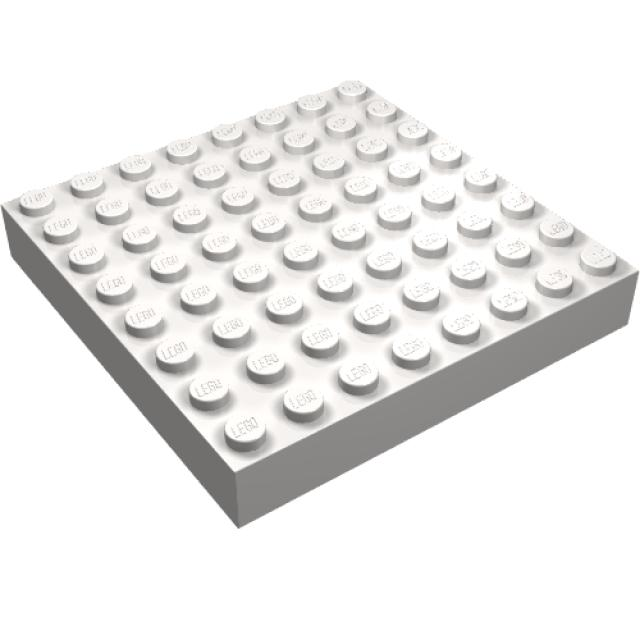White_Large: (0, 79, 640, 531)
